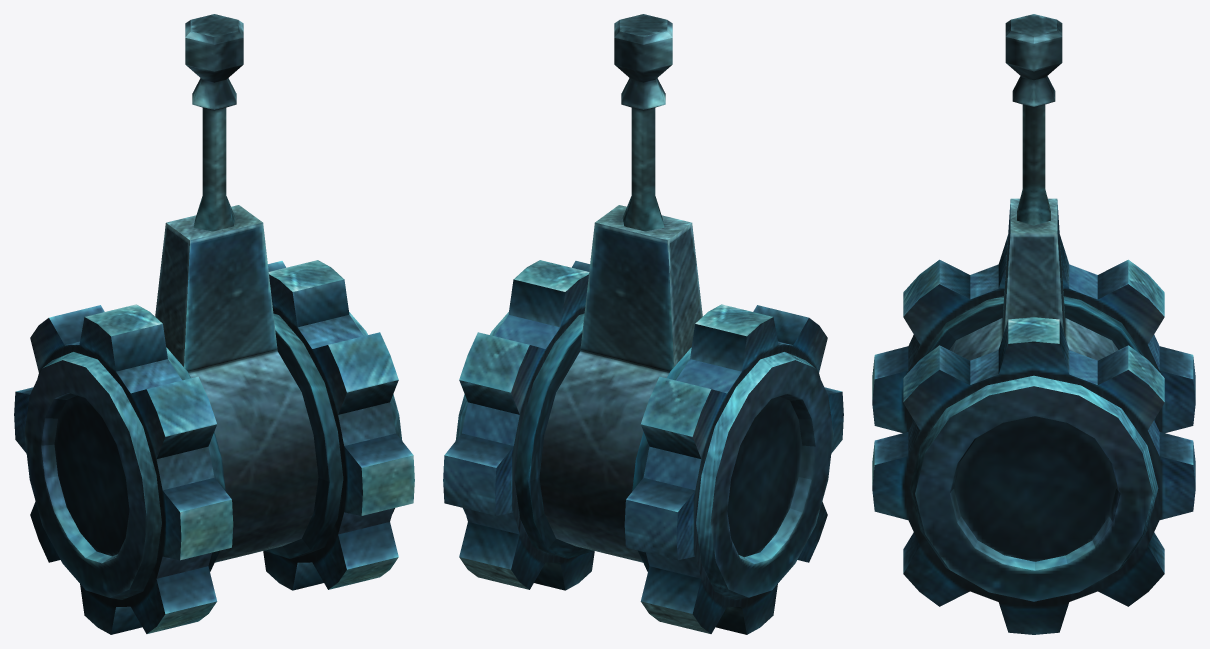
The model's file is t-railwayController-01.FBX.
3 views of the same model, side by side, from view 1: azimuth 30°, elevation 25°; view 2: azimuth 150°, elevation 25°; view 3: azimuth 270°, elevation 25° (orthographic). The views are drawn at different scales.
Visible parts, largest first — view 1: Object001; view 2: Object001; view 3: Object001.
Boxes of the visible parts, <box> form: Object001: <box>14,14,414,634</box>; Object001: <box>443,14,843,634</box>; Object001: <box>872,14,1195,634</box>.
Bounding box in the file's own units: 66.53 × 142 × 74.97.
